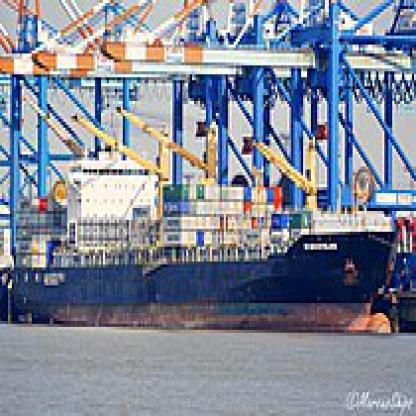Container Ship: (0, 0, 415, 333)
